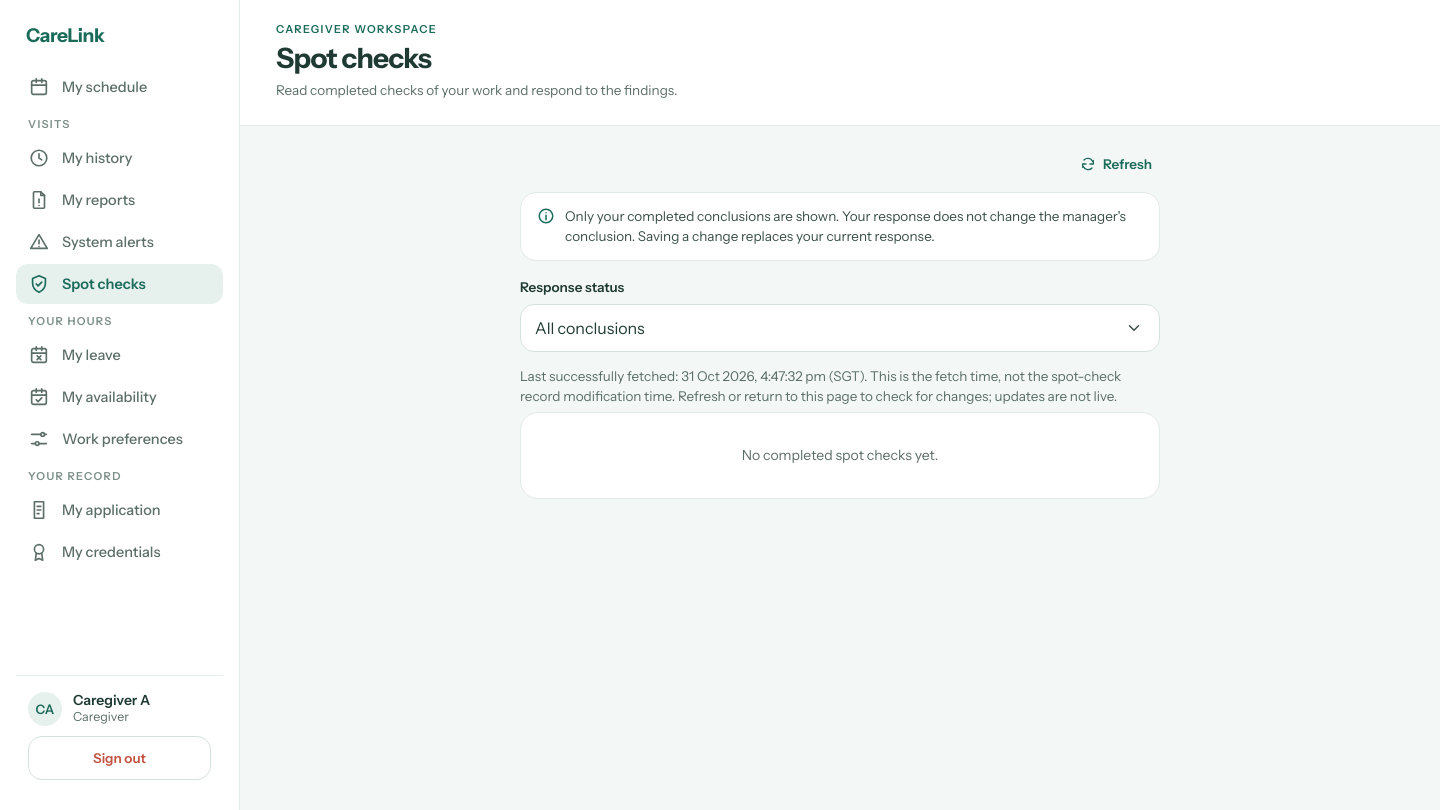
Test: caregiver spot-check conclusions › shows empty results and orders checked dates before null dates
Expected: the text "No completed spot checks yet." is shown, x1=520 y1=412 x2=1160 y2=499
What coordinates should you click on to do the following:
click the button "Refresh"
I would click on:
 (1116, 164)
Its box is x1=1072 y1=142 x2=1160 y2=186.
(page scrolled)
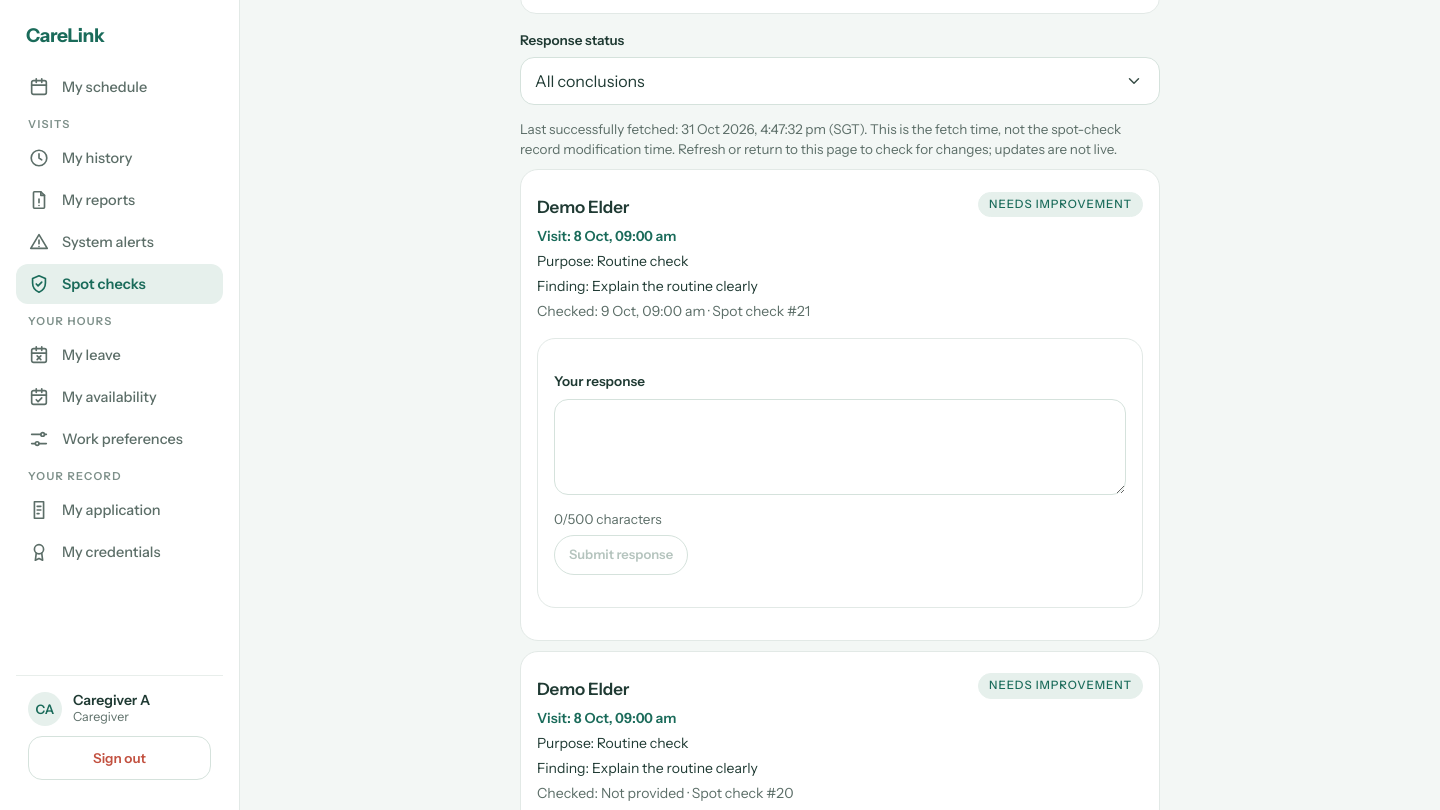
Expected: the element named "Spot check 21" is shown, x1=520 y1=169 x2=1160 y2=641
